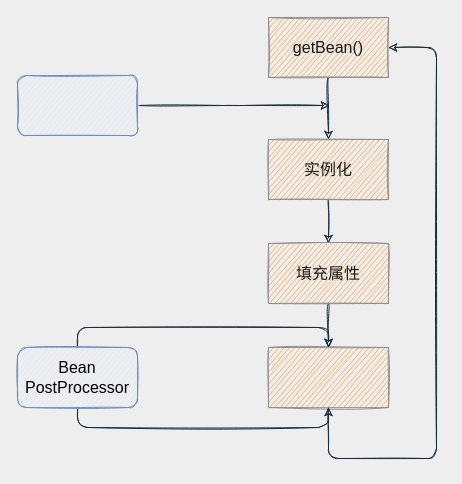
This 462x484 diagram has some shape labels left out. The box of each missing label's shape, as (x1, y1, x2, y2) in pixels:
BeanFactory PostProcessor: (16, 74, 138, 136)
初始化: (268, 346, 388, 408)
